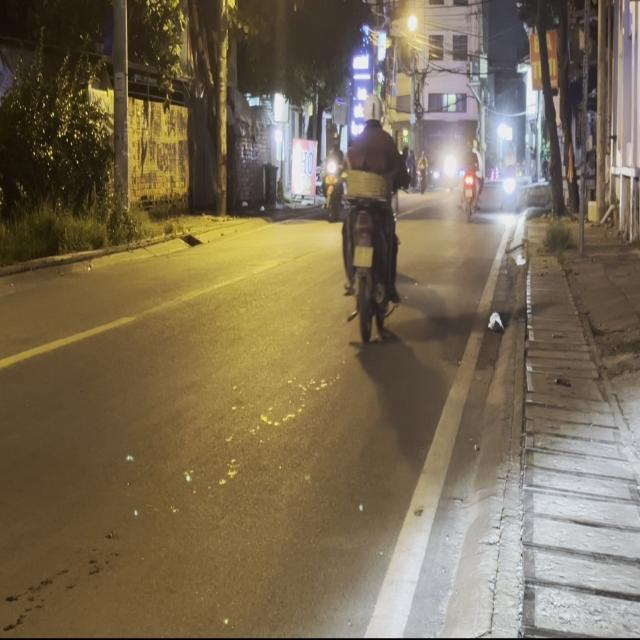helmet: (362, 92, 382, 125)
licenseplate: (336, 90, 405, 342)
nohelmet: (353, 246, 372, 266)
